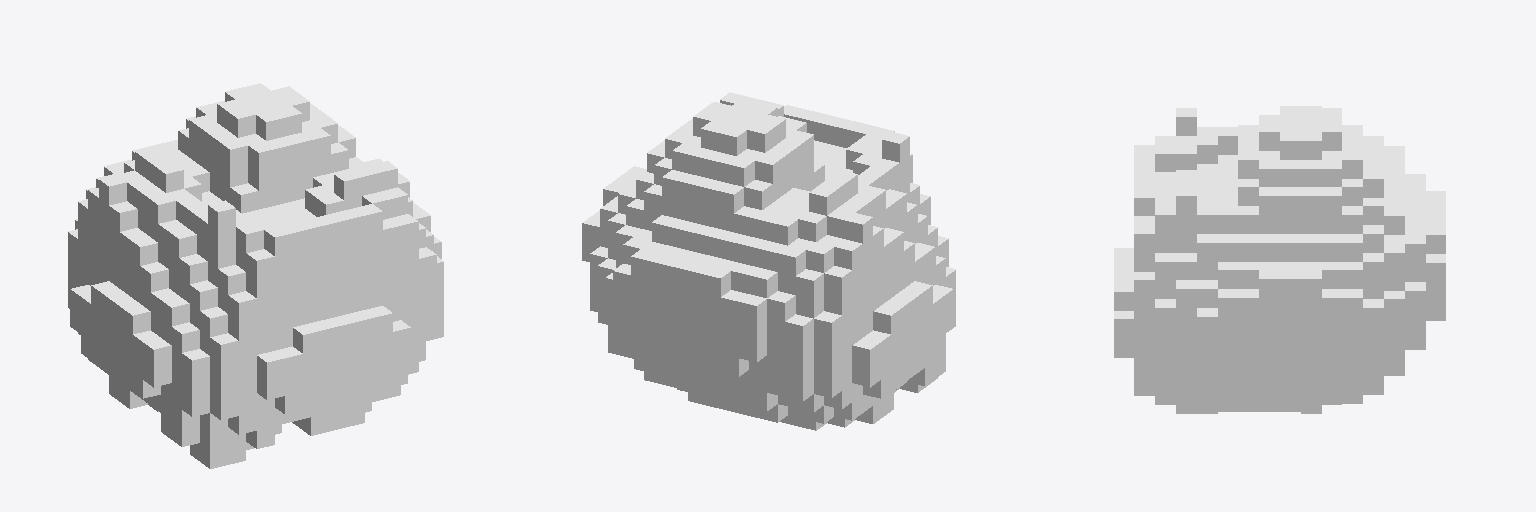
File: RockWobble.obj
3 views of the same model, side by side, from view 1: azimuth 30°, elevation 25°; view 2: azimuth 150°, elevation 25°; view 3: azimuth 270°, elevation 25° (orthographic).
Parts seen in each view (by area): view 1: RockWobble; view 2: RockWobble; view 3: RockWobble.
Part boxes in pixels (left/top/right/bottom): RockWobble: left=68, top=83, right=443, bottom=468; RockWobble: left=582, top=92, right=955, bottom=430; RockWobble: left=1114, top=106, right=1445, bottom=413.
Bounding box in the file's own units: 1.6 × 1.5 × 1.6.